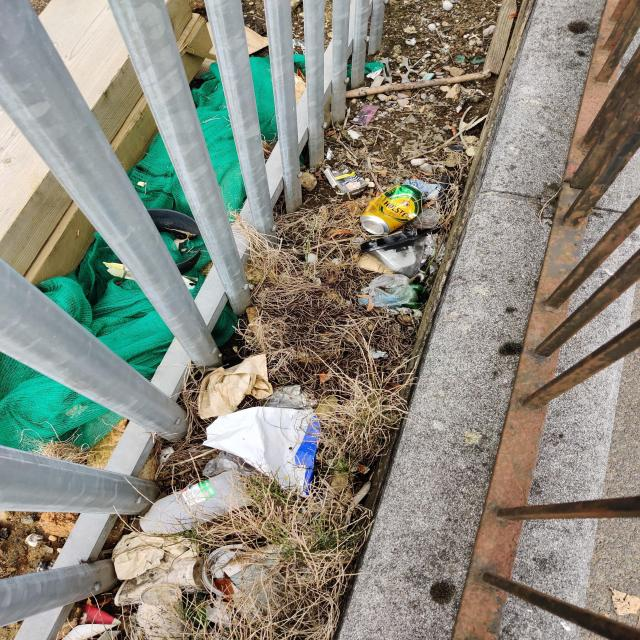litter: (114, 457, 278, 544), (198, 404, 331, 506), (348, 162, 439, 243)
